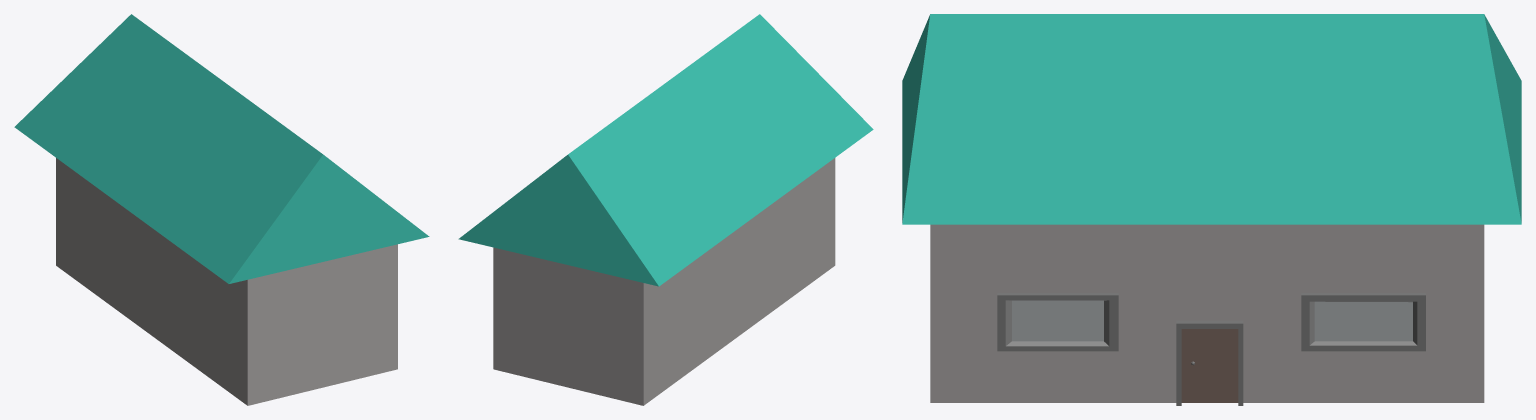
The model's file is Small5.fbx.
The picture shows the model from 3 angles, left to right: view 1: azimuth 30°, elevation 25°; view 2: azimuth 150°, elevation 25°; view 3: azimuth 270°, elevation 25°; orthographic projection. The views are drawn at different scales.
Visible parts, largest first — view 1: pCube2; view 2: pCube2; view 3: pCube2.
Part boxes in pixels (x1,y1,x2,y2): pCube2: [14, 14, 429, 405]; pCube2: [458, 14, 873, 405]; pCube2: [902, 14, 1521, 405].
Bounding box in the file's own units: 7.99 × 8.86 × 14.79.
